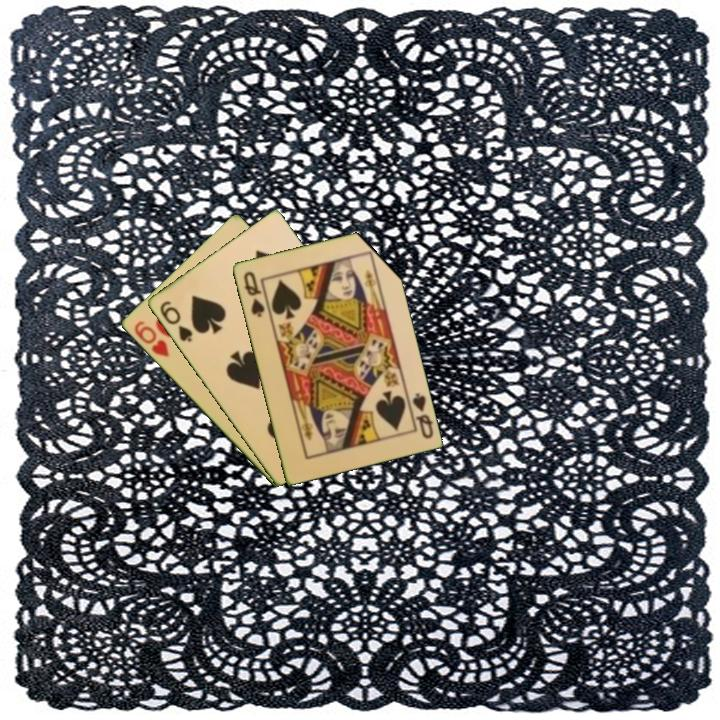6h: (130, 317, 172, 360)
6s: (156, 297, 195, 345)
Qs: (408, 389, 436, 442), (240, 268, 267, 320)
